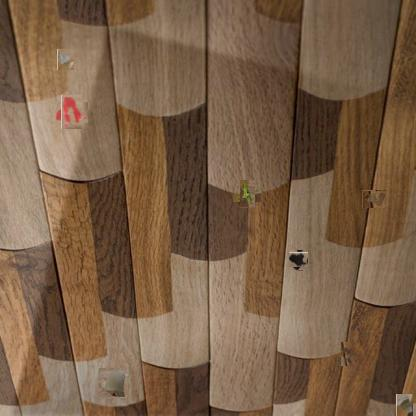dirty: (98, 369, 128, 398), (236, 184, 258, 206), (362, 191, 386, 209), (56, 50, 76, 69), (396, 394, 413, 416), (341, 342, 355, 366)
liquid: (58, 99, 85, 126), (290, 251, 307, 269)
